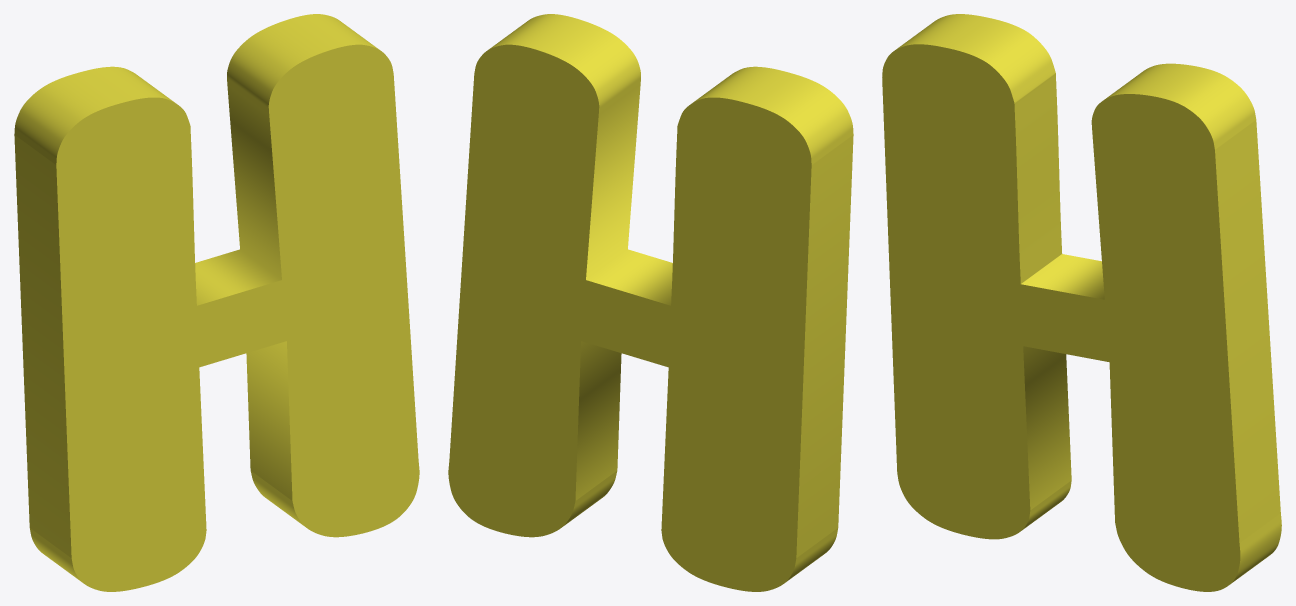
3 views of the same model, side by side, from view 1: azimuth 30°, elevation 25°; view 2: azimuth 150°, elevation 25°; view 3: azimuth 330°, elevation 25° (orthographic).
Visible parts, largest first — view 1: Text.002; view 2: Text.002; view 3: Text.002.
Part boxes in pixels (box(x1,y1,x2,y2)): Text.002: box(14, 14, 419, 591); Text.002: box(448, 14, 853, 591); Text.002: box(882, 14, 1281, 591).
Bounding box in the file's own units: 240 × 310 × 47.91.
